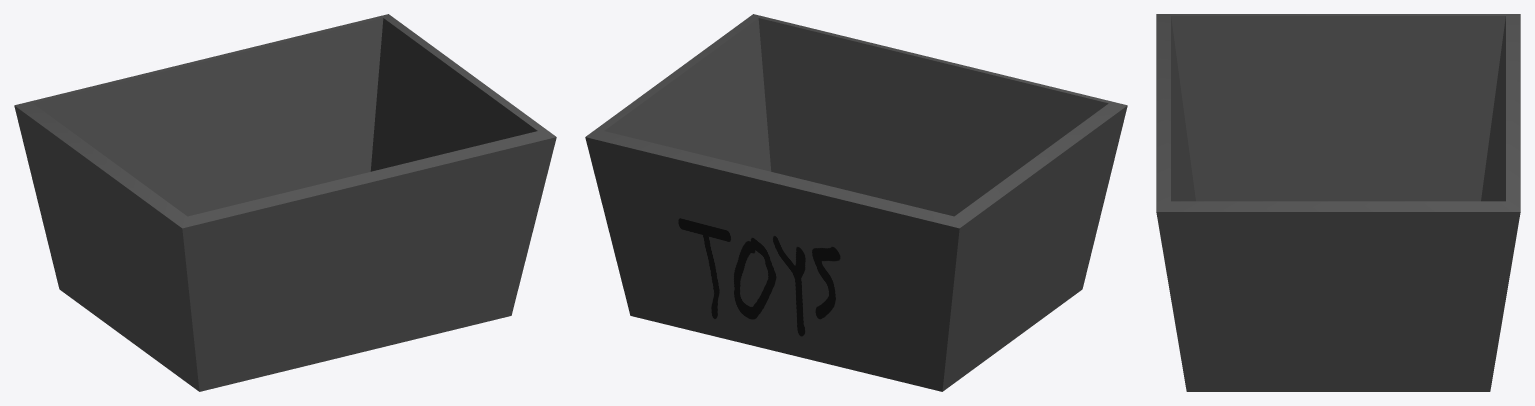
The model's file is Dog'sToyBox.fbx.
The picture shows the model from 3 angles, left to right: view 1: azimuth 30°, elevation 25°; view 2: azimuth 150°, elevation 25°; view 3: azimuth 270°, elevation 25°; orthographic projection. The views are drawn at different scales.
Visible parts, largest first — view 1: ToyBox; view 2: ToyBox; view 3: ToyBox.
Boxes of the visible parts, x1,y1,x2,y2 form: ToyBox: (14,14,556,391); ToyBox: (585,14,1127,391); ToyBox: (1156,14,1520,391).
Bounding box in the file's own units: 432 × 204 × 336.
Materials: 1 (1 with a texture image).
